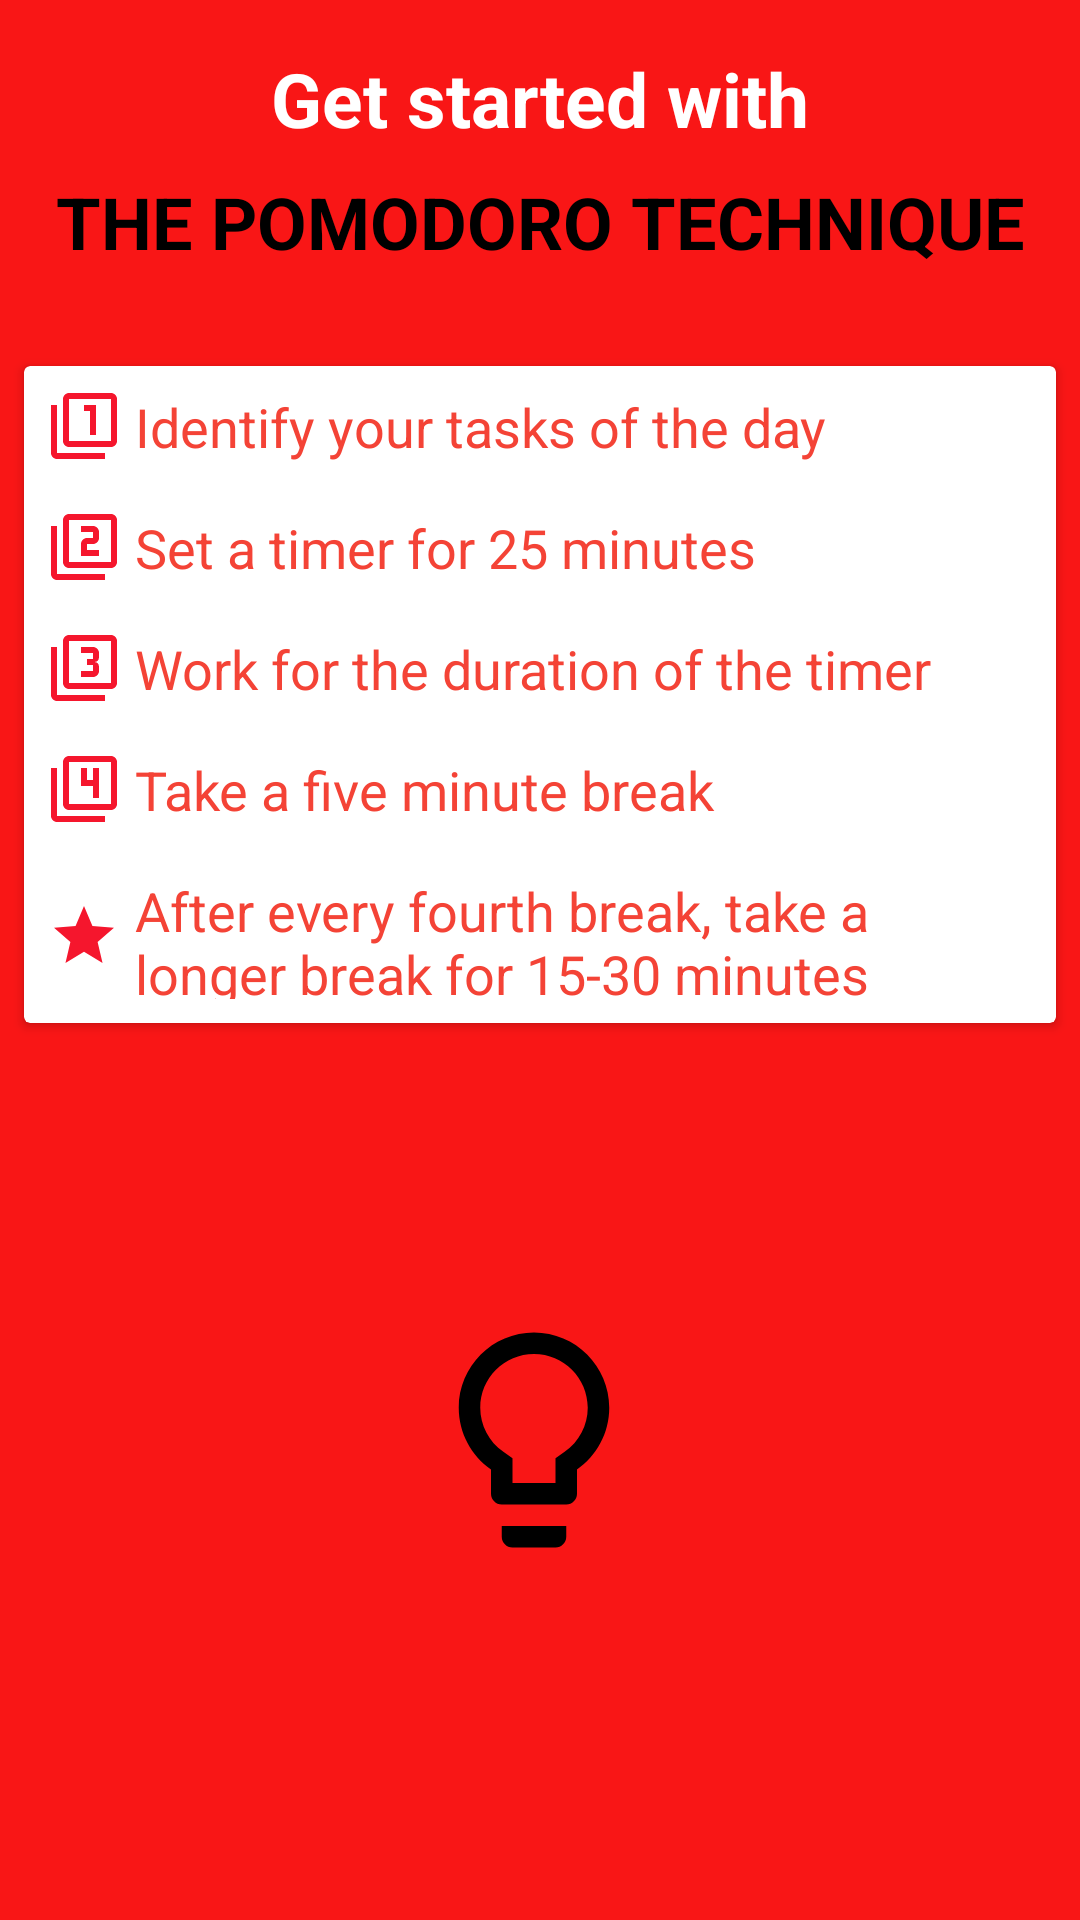

Locate icon controls on the screen. Image size 1080×1920, boxes as (x1, y1, x2, y2).
lightbulb: (458, 1332, 610, 1548)
